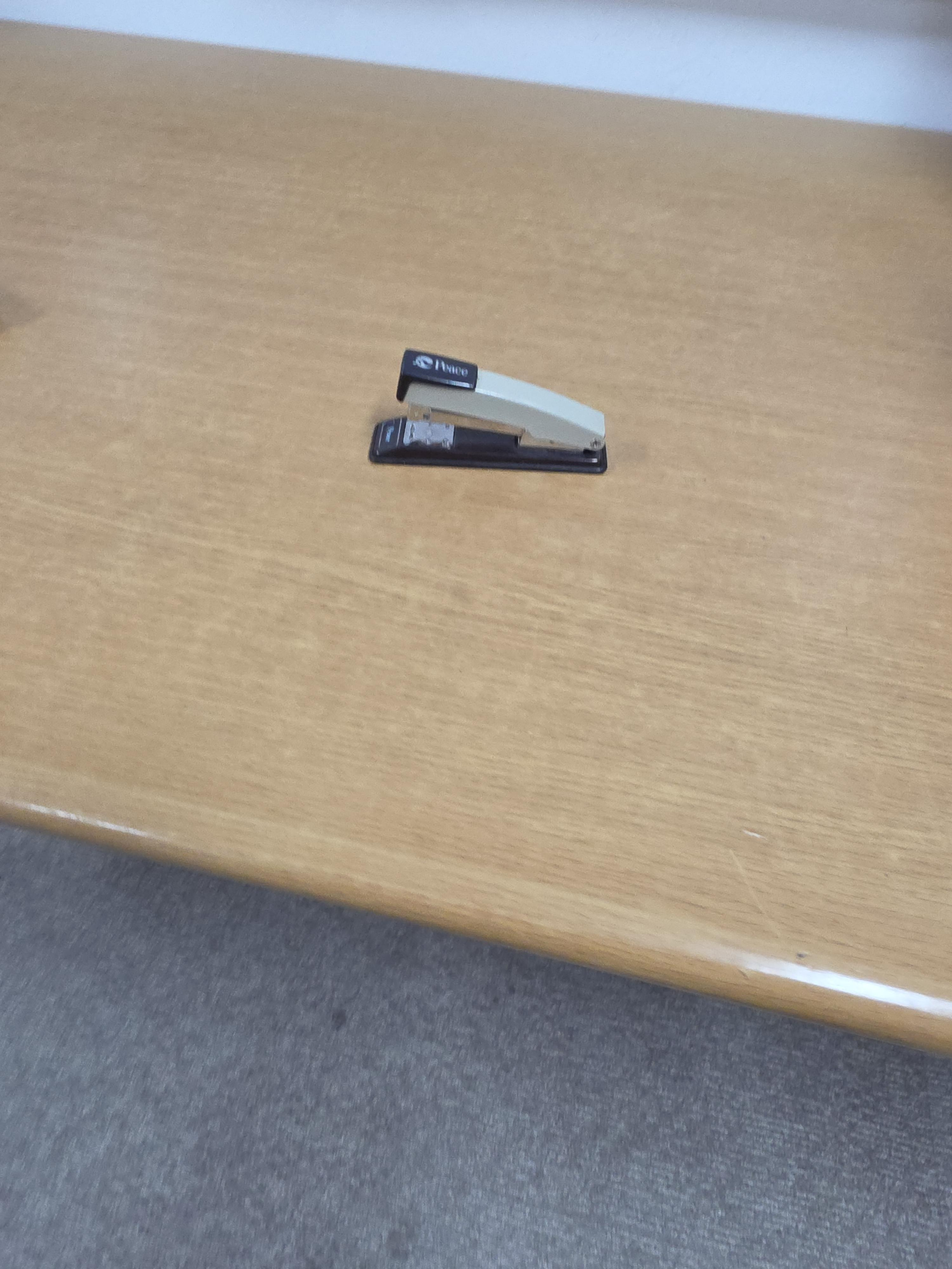stapler: (368, 348, 607, 475)
